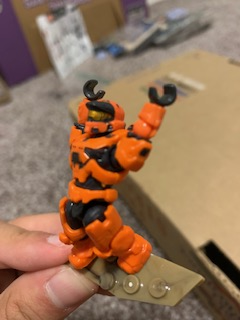spartan: (54, 81, 178, 281)
up: (62, 79, 177, 187)
